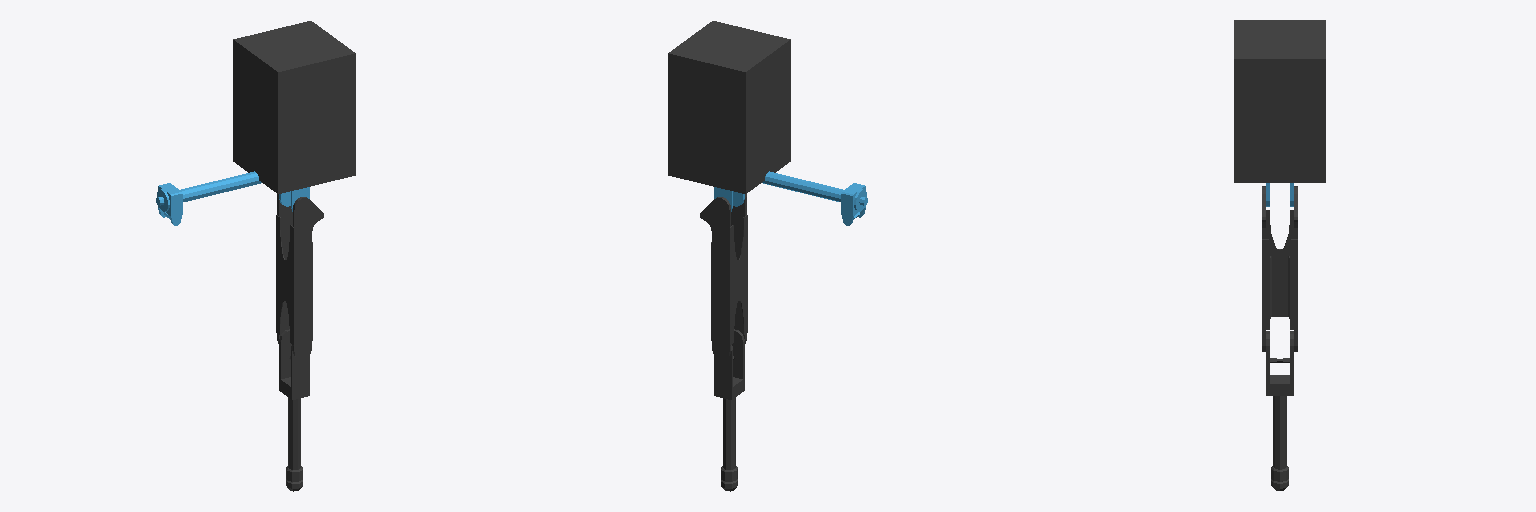
The robot description file, URDF, robot "monoped":
<robot name="monoped">
    <link name="base">
	    <visual>
	      <geometry>
	        <box size="0.20 0.20 0.30"/>
	      </geometry>
	      <material name="blue">
	        <color rgba="0.3 0.3 0.3 1.0"/>
	      </material>
	    </visual>        
    </link>
    
    <link name="hipassembly">
	    <visual>
	      <origin rpy="0.0 0.0 0.0" xyz="0.0 0.0 0.0"/>
	      <geometry>
	        <mesh filename="../meshes/leg/hipassembly.stl" scale="1 1 1"/>
	      </geometry>
	      <material name="white"/>
	    </visual>        
    </link>
    <link name="upperleg">
	    <visual>
	      <origin rpy="0.0 0.0 0.0" xyz="0.0 0.0 0.0"/>
	      <geometry>
	        <mesh filename="../meshes/leg/upperleg.stl" scale="1 1 1"/>
	      </geometry>
	      <material name="blue"/>
	    </visual>
    </link>
    <link name="lowerleg">
	    <visual>
	      <geometry>
	        <mesh filename="../meshes/leg/lowerleg.stl" scale="1 1 1"/>
	      </geometry>
	      <material name="blue"/>
	    </visual>        
    </link>
    
    <joint name="haa_joint" type="revolute">
        <origin xyz="0.0 0.0 -0.15000" rpy="2.0344439357957036 1.5707962290814481 -1.1071487177940917"/>
        <parent link="base"/>
        <child  link="hipassembly"/>
        <limit effort="200" lower="-1.6" upper="1.6" velocity="1.0"/>
        <axis xyz="0 0 1"/>
    </joint>
    <joint name="hfe_joint" type="revolute">
        <origin xyz="0.08000 0.00000 0.00000" rpy="1.5707963705062866 -0.0 0.0"/>
        <parent link="hipassembly"/>
        <child  link="upperleg"/>
        <limit effort="200" lower="-1.6" upper="1.6" velocity="1.0"/>
        <axis xyz="0 0 1"/>
    </joint>
    <joint name="kfe_joint" type="revolute">
        <origin xyz="0.35000 0.00000 0.00000" rpy="0.0 0.0 0.0"/>
        <parent link="upperleg"/>
        <child  link="lowerleg"/>
        <limit effort="200" lower="-1.6" upper="1.6" velocity="1.0"/>
        <axis xyz="0 0 1"/>
    </joint>
</robot>

--- Render facts (derived) ---
3 views of the same robot in one strip: view 1: azimuth 30°, elevation 25°; view 2: azimuth 150°, elevation 25°; view 3: azimuth 270°, elevation 25° (orthographic).
Robot: monoped — 4 links, 3 joints (3 revolute); root link base; default pose: all joints at 0.
Links seen in each view (by area): view 1: base, upperleg, lowerleg, hipassembly; view 2: base, upperleg, lowerleg, hipassembly; view 3: base, upperleg, lowerleg.
Boxes of the visible links, x1,y1,x2,y2 form: base: (233, 21, 355, 193); upperleg: (276, 194, 323, 358); lowerleg: (279, 329, 309, 491); hipassembly: (156, 171, 309, 225); base: (668, 21, 790, 193); upperleg: (700, 194, 747, 358); lowerleg: (714, 329, 744, 491); hipassembly: (714, 171, 867, 225); base: (1234, 20, 1325, 182); upperleg: (1262, 186, 1297, 351); lowerleg: (1266, 331, 1293, 490).
Bounding box of the posed robot: 0.4507 × 0.2 × 1.09 m (x, y, z).
3 mesh visuals loaded from 3 distinct referenced files (3 binary STL).